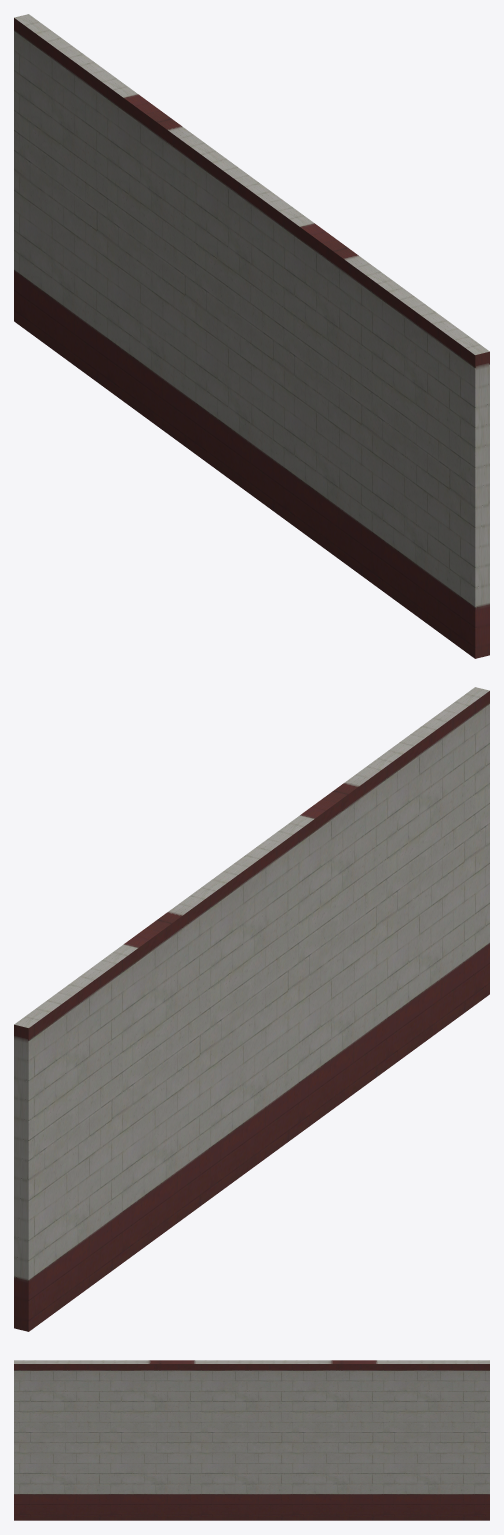
File: souplongwall022.glb
The picture shows the model from 3 angles, top to bottom: view 1: azimuth 30°, elevation 25°; view 2: azimuth 150°, elevation 25°; view 3: azimuth 270°, elevation 25°; orthographic projection. The views are drawn at different scales.
Parts seen in each view (by area): view 1: souplongwall022_high_1; view 2: souplongwall022_high_1; view 3: souplongwall022_high_1.
Boxes of the visible parts, x1,y1,x2,y2 form: souplongwall022_high_1: (14,14,489,658); souplongwall022_high_1: (14,687,489,1331); souplongwall022_high_1: (14,1360,489,1520).
Bounding box in the file's own units: 0.1504 × 2.95 × 8.11.
1 material, 1 textured.
